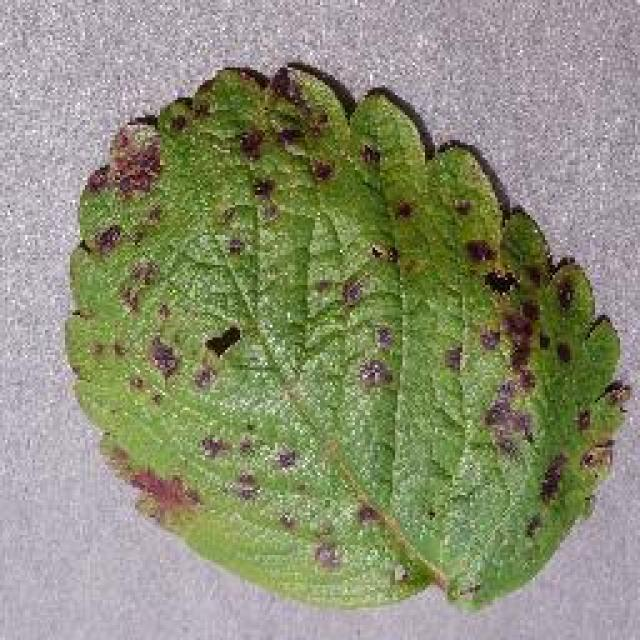Strawberry___Leaf_scorch: (67, 60, 578, 568)
